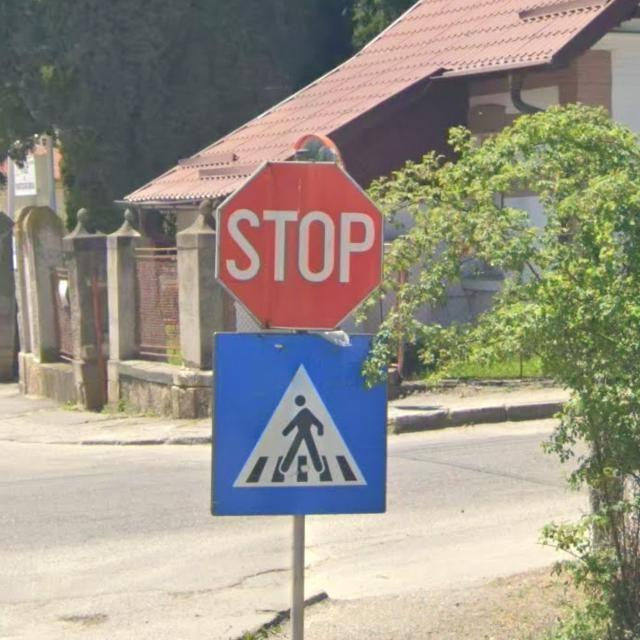info_crosswalk: (210, 332, 388, 512)
prio_stop: (214, 159, 383, 329)
